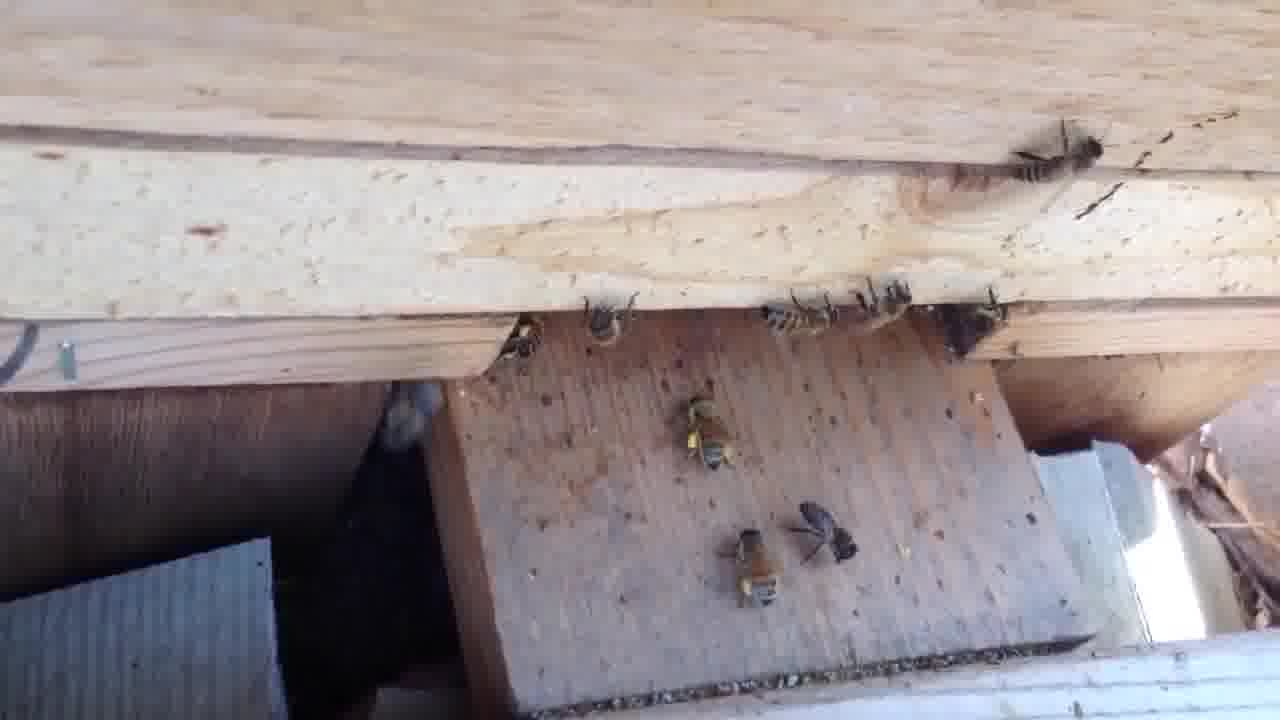pollen: (675, 389, 743, 481), (722, 527, 787, 608)
